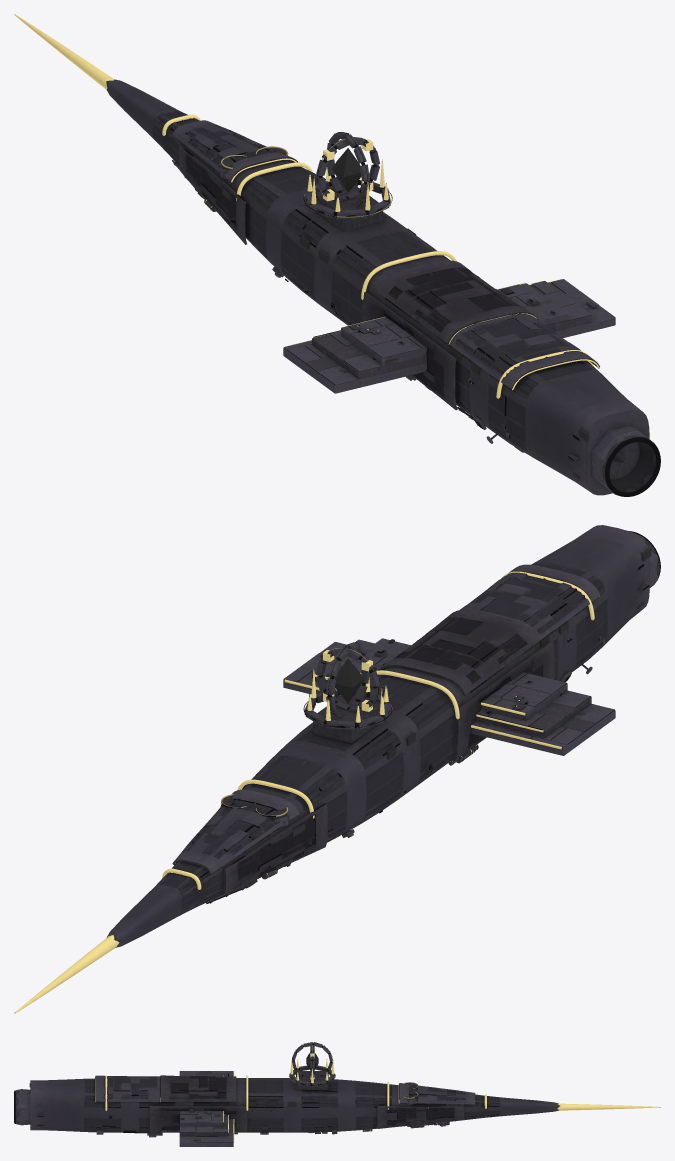
The model's file is crowned_needle_hero.glb.
3 views of the same model, one above another, from view 1: azimuth 30°, elevation 25°; view 2: azimuth 150°, elevation 25°; view 3: azimuth 270°, elevation 25° (orthographic). The views are drawn at different scales.
Parts seen in each view (by area): view 1: HullBaked; view 2: HullBaked; view 3: HullBaked.
Boxes of the visible parts, bbox=[...] form: HullBaked: bbox=[14, 14, 660, 496]; HullBaked: bbox=[14, 525, 660, 1013]; HullBaked: bbox=[14, 1042, 660, 1146].
Bounding box in the file's own units: 18.72 × 10.7 × 71.59.
1 material, 1 textured.
